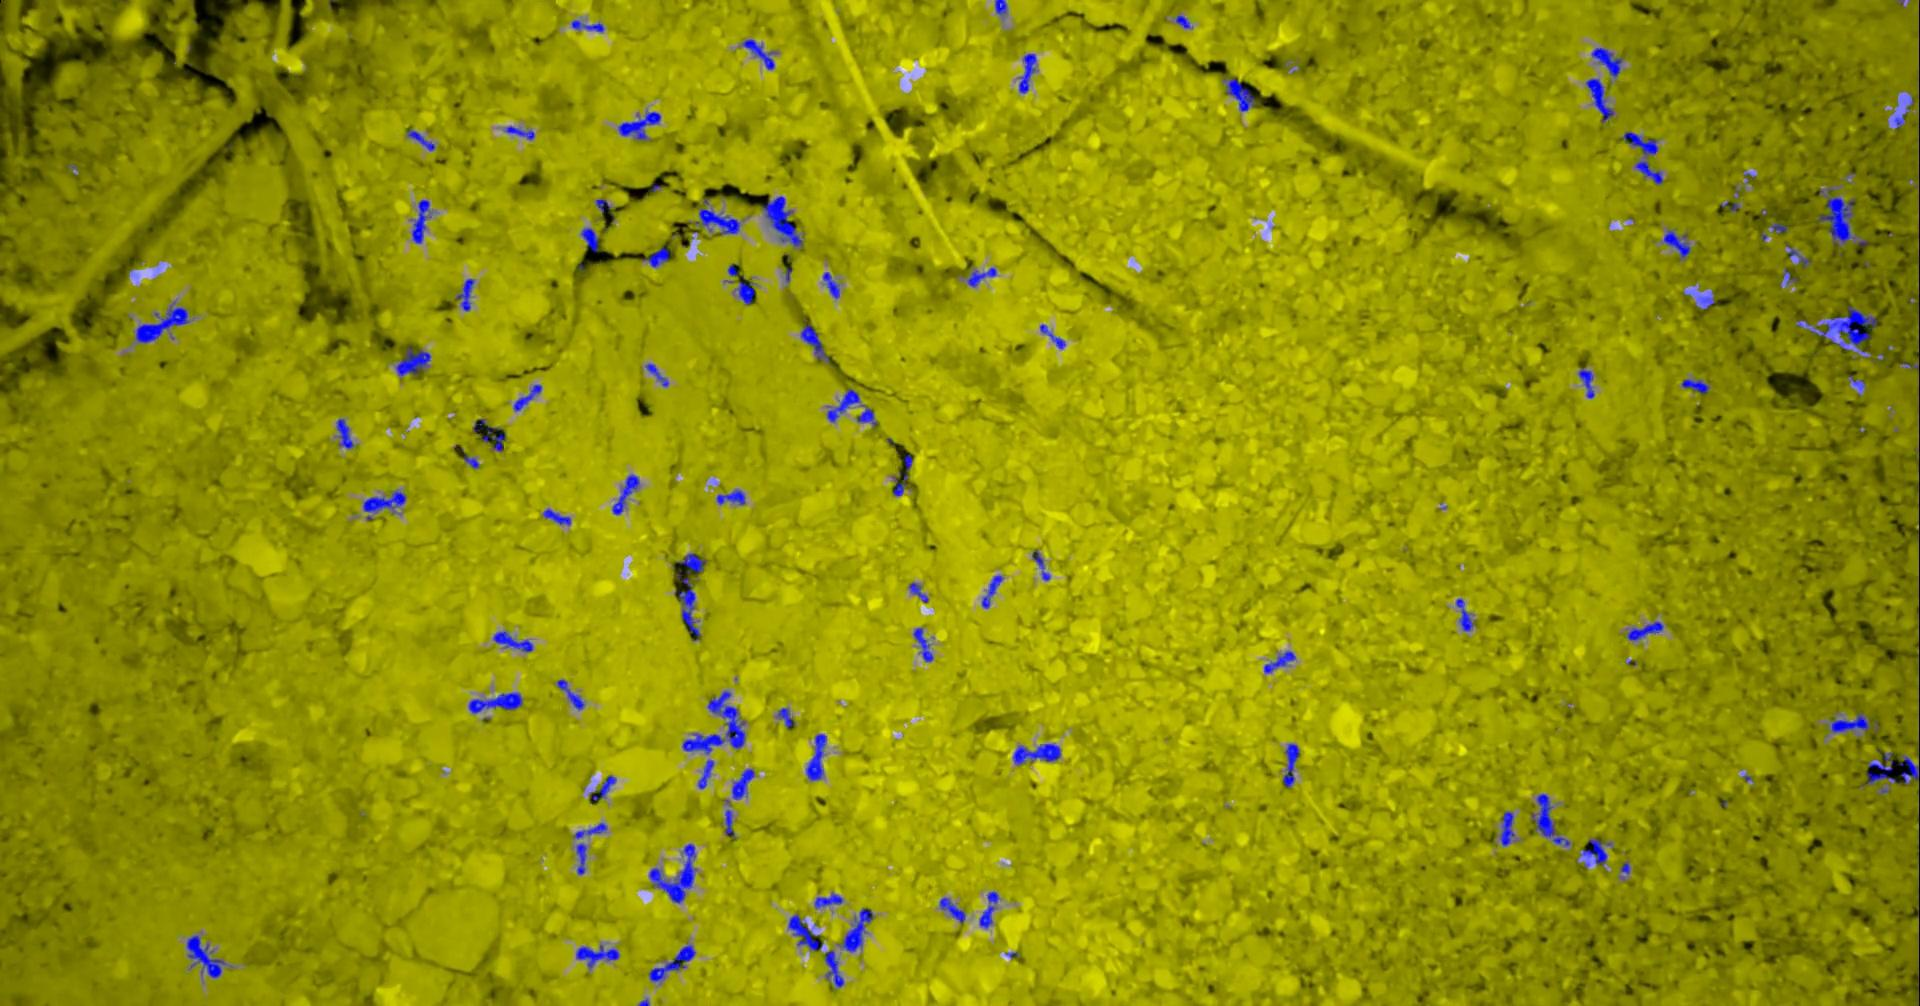ant: (1810, 305, 1876, 351), (648, 843, 695, 903), (674, 553, 705, 640), (1816, 187, 1855, 246), (135, 301, 189, 343), (761, 196, 803, 246), (1531, 793, 1570, 845), (648, 944, 695, 981), (185, 935, 225, 977), (841, 908, 872, 951), (688, 208, 739, 234), (617, 111, 660, 140), (362, 490, 405, 520), (1585, 77, 1613, 122), (787, 915, 822, 950), (611, 474, 639, 514), (825, 387, 858, 422), (469, 692, 522, 713), (800, 324, 829, 361), (1223, 77, 1255, 111), (395, 345, 430, 375), (575, 944, 618, 967), (1012, 743, 1060, 763), (742, 39, 775, 69), (805, 733, 825, 780), (1591, 47, 1622, 77), (1865, 752, 1895, 784), (1831, 713, 1877, 732), (891, 453, 912, 495), (491, 631, 532, 652), (411, 199, 430, 243), (556, 680, 584, 709), (1622, 131, 1657, 154), (1663, 229, 1690, 259), (513, 384, 541, 410), (1283, 743, 1299, 788), (938, 897, 965, 923), (1627, 621, 1663, 640), (979, 890, 998, 927), (824, 950, 843, 987), (731, 768, 754, 799), (1263, 650, 1295, 672), (1580, 838, 1606, 864), (982, 575, 1002, 608), (1018, 53, 1035, 93), (1039, 324, 1065, 348), (1636, 160, 1663, 183), (1893, 95, 1912, 128), (913, 627, 932, 661), (590, 775, 615, 800), (406, 128, 434, 150), (1455, 598, 1473, 631), (481, 426, 505, 450), (1898, 756, 1919, 784), (571, 822, 606, 838), (455, 278, 472, 310), (1031, 549, 1049, 580), (641, 246, 669, 265), (968, 267, 996, 286), (645, 363, 668, 386), (337, 418, 353, 448), (822, 271, 839, 298), (737, 276, 754, 304), (1500, 810, 1514, 845), (1578, 367, 1594, 398), (542, 508, 570, 525), (1787, 246, 1810, 265), (580, 227, 598, 251), (504, 124, 535, 138), (716, 489, 744, 504), (697, 760, 712, 788), (908, 582, 928, 602), (856, 406, 877, 426), (1681, 379, 1709, 392), (814, 893, 842, 907), (571, 19, 604, 30), (777, 708, 794, 727), (724, 809, 734, 837), (1780, 267, 1797, 283), (577, 843, 585, 874), (1695, 296, 1714, 309), (1175, 15, 1192, 28), (596, 198, 610, 212), (1770, 222, 1788, 232), (463, 455, 477, 467), (994, 0, 1006, 15)
